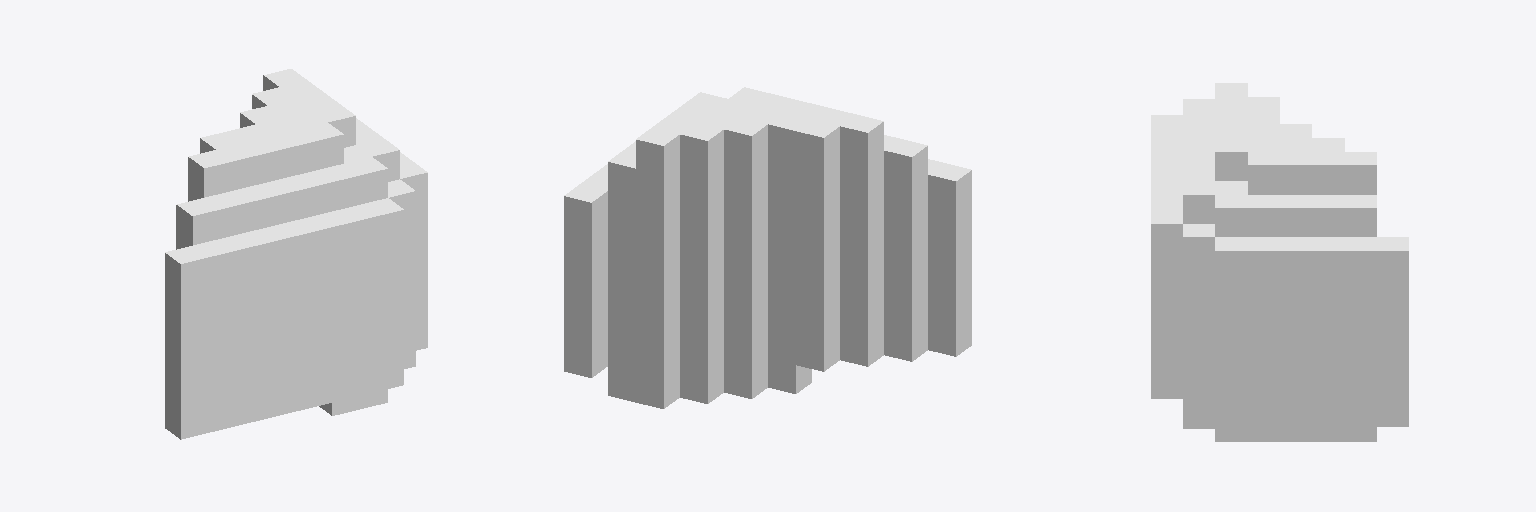
The model's file is Pumpkin-(Bits)-2.obj.
The picture shows the model from 3 angles: view 1: azimuth 30°, elevation 25°; view 2: azimuth 150°, elevation 25°; view 3: azimuth 270°, elevation 25°; orthographic projection.
Visible parts, largest first — view 1: object 1; view 2: object 1; view 3: object 1.
Boxes of the visible parts, box(x1,y1,x2,y2) form: object 1: box(165, 69, 427, 439); object 1: box(564, 87, 971, 408); object 1: box(1151, 83, 1408, 441).
Bounding box in the file's own units: 1 × 0.9 × 0.8.